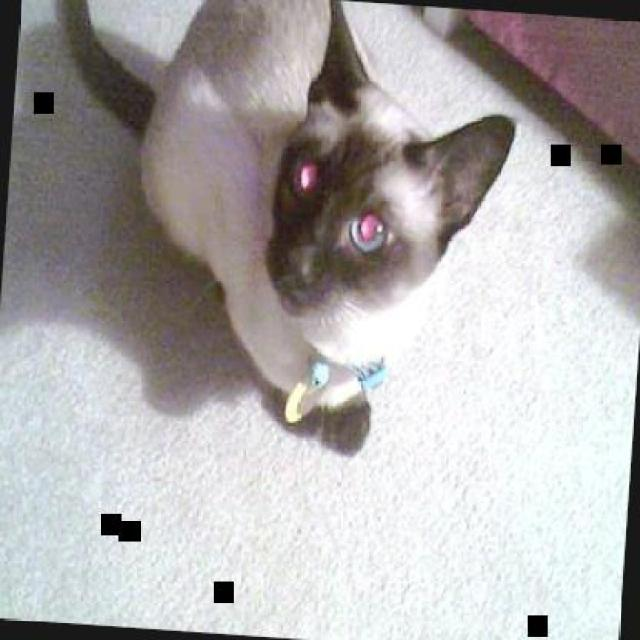cat: (26, 0, 525, 466)
